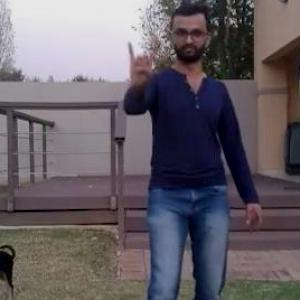takeoff-hand: (121, 28, 164, 83)
